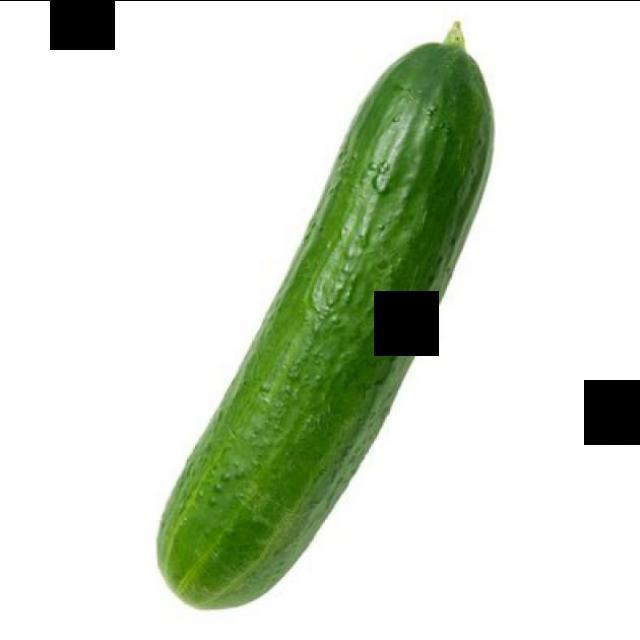cucumber: (152, 17, 502, 613)
